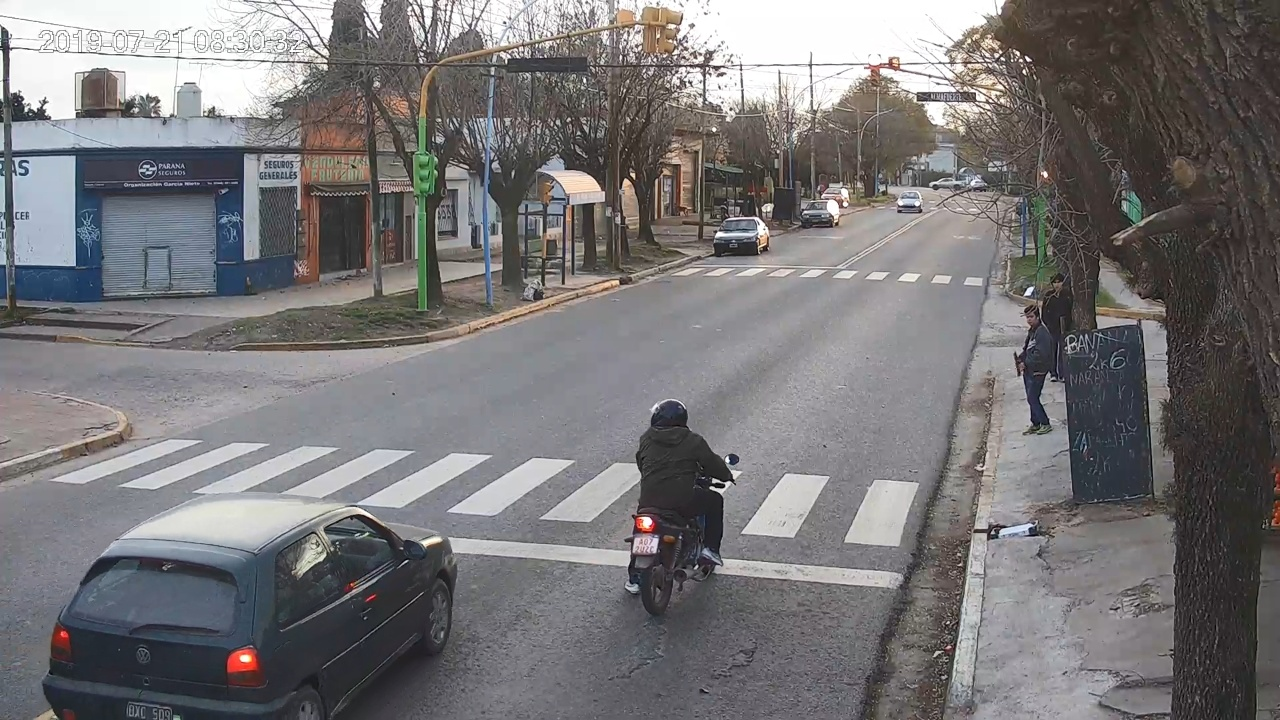car: (43, 491, 458, 720)
motorcycle: (625, 426, 740, 619)
traffic light: (869, 53, 881, 86)
